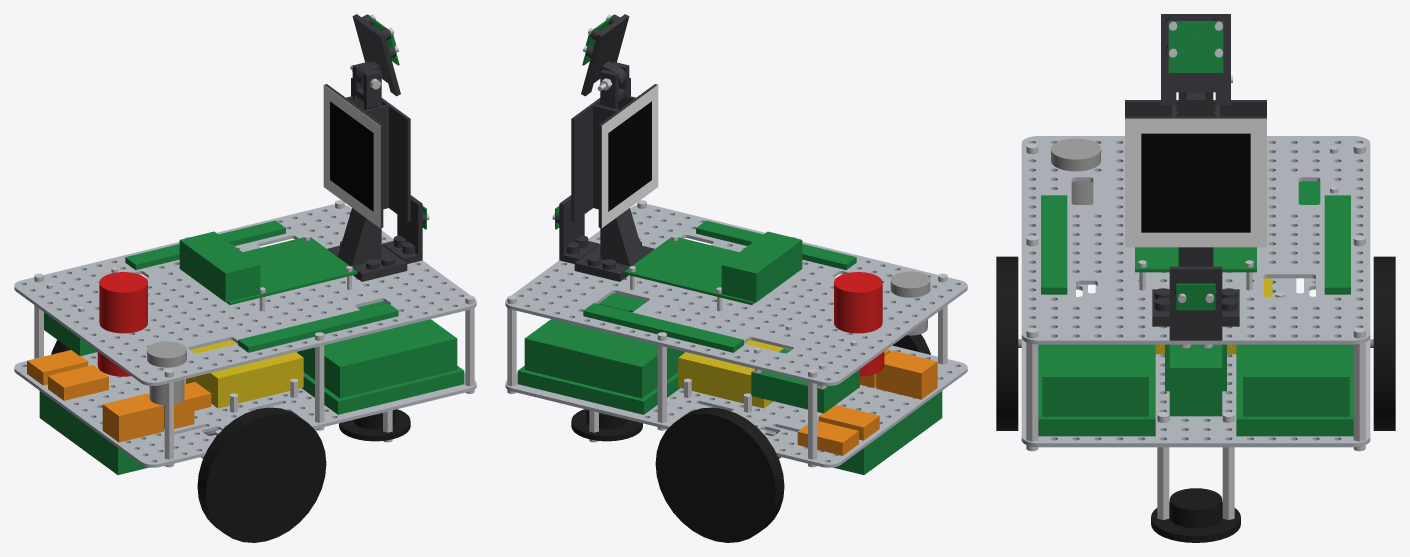
File: fahrzeug.glb
3 renders of one model, left to right at view 1: azimuth 30°, elevation 25°; view 2: azimuth 150°, elevation 25°; view 3: azimuth 270°, elevation 25°, orthographic. The views are drawn at different scales.
Visible parts, largest first — view 1: Grundplatte oben, Rad rechts, Steckbrett rechts, Grundplatte unten, Raspberry Pi (Hauptrechner), Kameramast, Akku, Erkennungsmarke (AprilTag) hinten (Muster), Not-Aus-Taster, Erkennungsmarke (AprilTag) hinten, 5-V-Netzteil (Spannungswandler), LED-Leiste rechts (+14 smaller); view 2: Grundplatte oben, Rad links, Steckbrett links, Grundplatte unten, Raspberry Pi (Hauptrechner), Kameramast, Erkennungsmarke (AprilTag) hinten (Muster), Not-Aus-Taster, Akku, Erkennungsmarke (AprilTag) hinten, 5-V-Netzteil (Spannungswandler), Motortreiber (+15 smaller); view 3: Grundplatte oben, Erkennungsmarke (AprilTag) vorn (Muster), Steckbrett links, Steckbrett rechts, Grundplatte unten, Erkennungsmarke (AprilTag) vorn, Kameramast, Relais (schaltet den Motorstrom), Rad links, Rad rechts, Stützrolle (Kugel), Kamerakopf (+12 smaller).
Boxes of the visible parts, x1,y1,x2,y2 form: Grundplatte oben: (14, 204, 476, 385); Rad rechts: (197, 407, 326, 542); Steckbrett rechts: (297, 319, 464, 414); Grundplatte unten: (14, 352, 476, 467); Raspberry Pi (Hauptrechner): (179, 231, 357, 304); Kameramast: (324, 62, 410, 281); Akku: (186, 340, 303, 408); Erkennungsmarke (AprilTag) hinten (Muster): (330, 101, 373, 211); Not-Aus-Taster: (97, 272, 147, 376); Erkennungsmarke (AprilTag) hinten: (323, 85, 380, 227); 5-V-Netzteil (Spannungswandler): (39, 391, 205, 474); LED-Leiste rechts: (238, 303, 398, 352); Grundplatte oben: (505, 204, 967, 385); Rad links: (655, 407, 784, 542); Steckbrett links: (517, 319, 684, 414); Grundplatte unten: (505, 345, 967, 467); Raspberry Pi (Hauptrechner): (624, 231, 802, 304); Kameramast: (571, 62, 657, 281); Erkennungsmarke (AprilTag) hinten (Muster): (608, 101, 651, 211); Not-Aus-Taster: (834, 272, 884, 376); Akku: (678, 340, 783, 408); Erkennungsmarke (AprilTag) hinten: (601, 85, 658, 227); 5-V-Netzteil (Spannungswandler): (776, 391, 942, 474); Motortreiber: (751, 348, 859, 413); Grundplatte oben: (1021, 136, 1370, 344); Erkennungsmarke (AprilTag) vorn (Muster): (1141, 133, 1250, 232); Steckbrett links: (1236, 344, 1353, 436); Steckbrett rechts: (1038, 344, 1155, 436); Grundplatte unten: (1021, 278, 1370, 447); Erkennungsmarke (AprilTag) vorn: (1125, 118, 1266, 247); Kameramast: (1125, 92, 1266, 326); Relais (schaltet den Motorstrom): (1165, 344, 1226, 416); Rad links: (1373, 256, 1395, 430); Rad rechts: (996, 256, 1018, 430); Stützrolle (Kugel): (1151, 488, 1240, 542); Kamerakopf: (1161, 14, 1230, 105).
Bounding box in the file's own units: 229 × 264 × 183.
